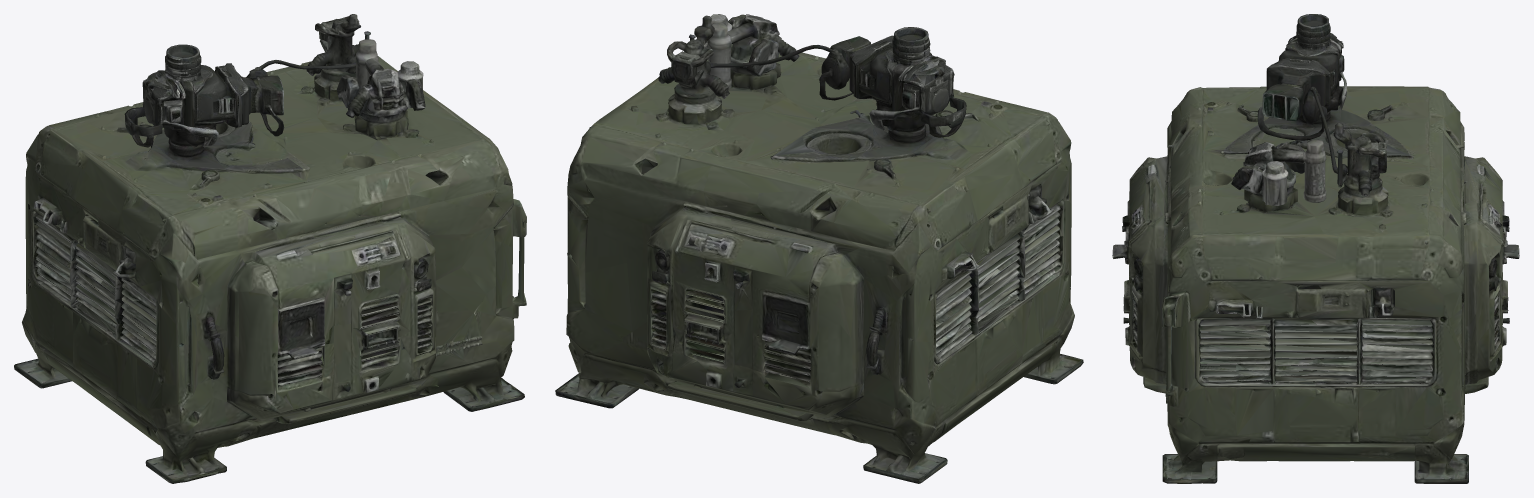
Rendered from t243_factory_lod0.glb.
The picture shows the model from 3 angles, left to right: view 1: azimuth 30°, elevation 25°; view 2: azimuth 150°, elevation 25°; view 3: azimuth 270°, elevation 25°; orthographic projection. The views are drawn at different scales.
Size of the model in its own units: 18 by 16.09 by 17.44.
1 material, 1 textured.
